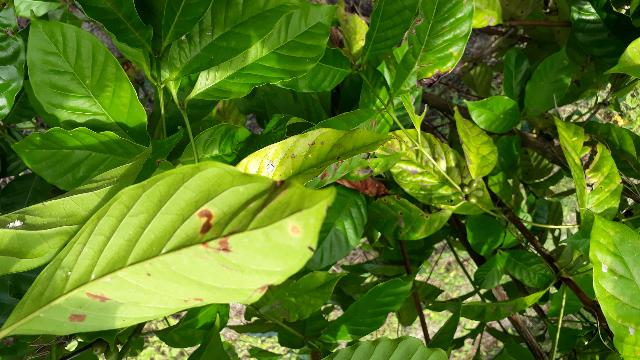red_spider_mite: (305, 21, 638, 196)
